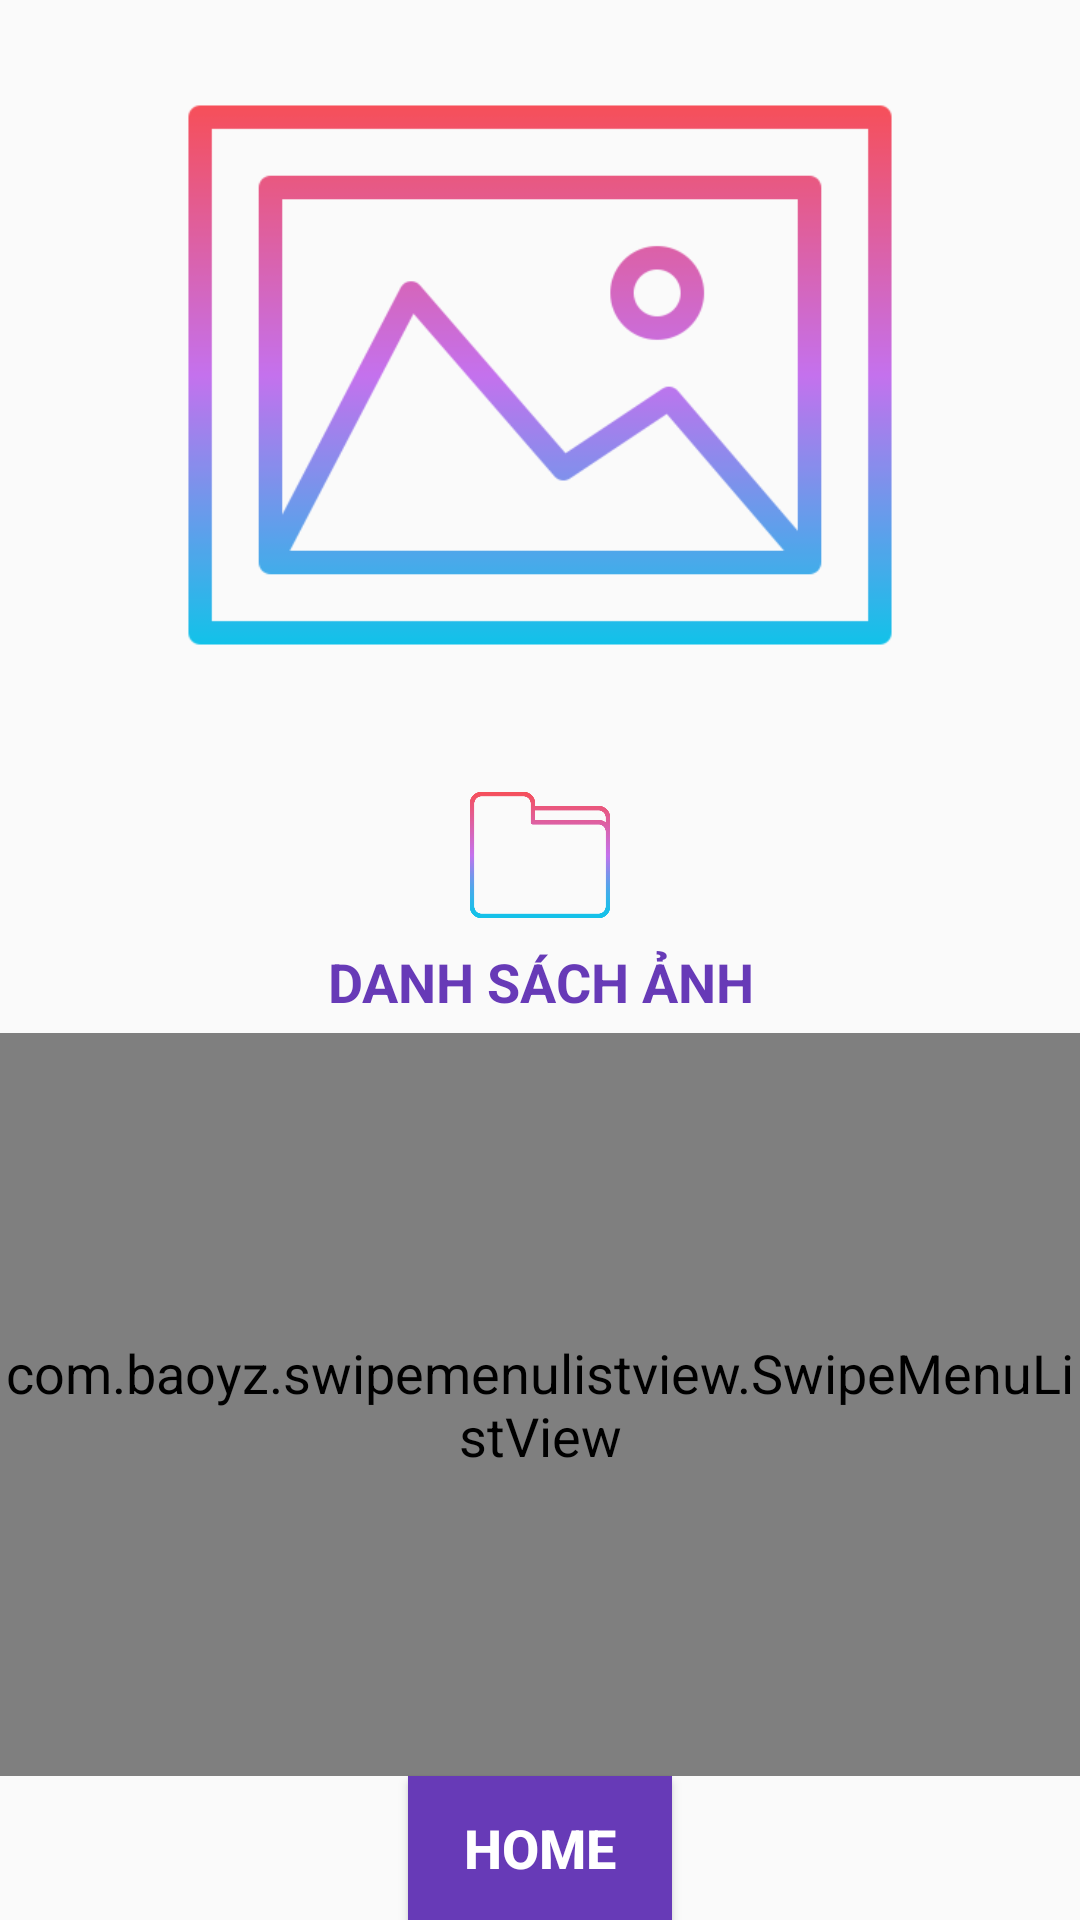

Icon click points for this 1080px×1920px phone screenshot, format point (x, y):
folder: point (540, 855)
